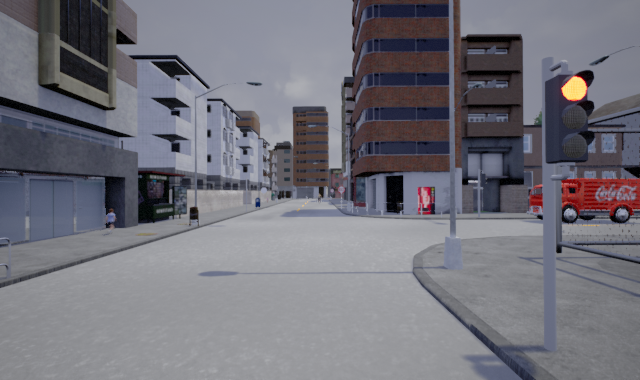pedestrian: (100, 206, 121, 234)
vehicle: (521, 177, 639, 224)
